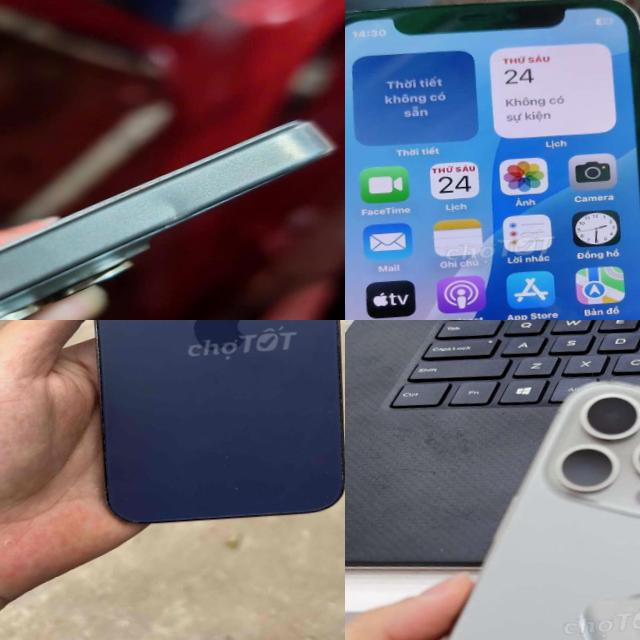gen_11: (345, 0, 640, 320)
gen_14: (74, 320, 345, 534)
gen_15: (0, 115, 345, 320)
gen_16: (446, 381, 640, 640)
physical_damage: (150, 182, 187, 224)
